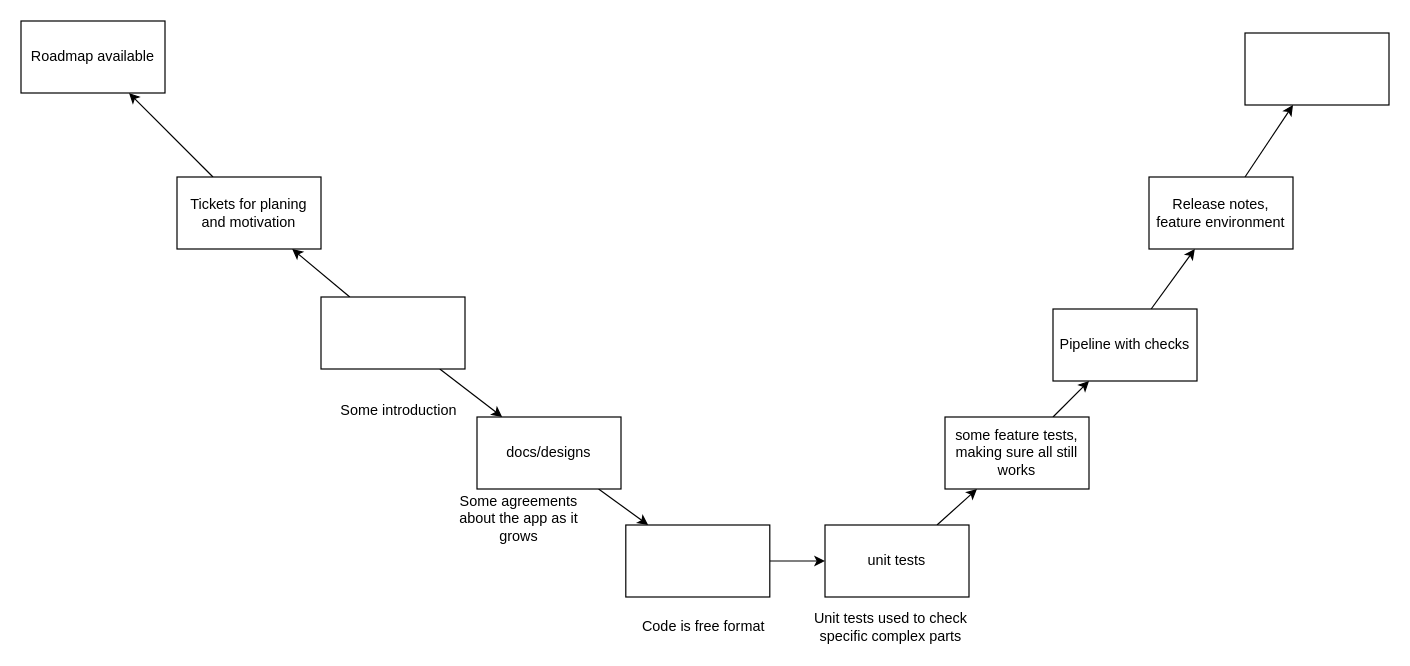
Image size: 1410x666. Some labels were removed from this diagram. The centre of each missing label's shape, as x and y in pixels:
code: the point at 697,560
Quality checks, version check, some maintenance and support, SLA: the point at 1316,68
README.md: the point at 392,332
